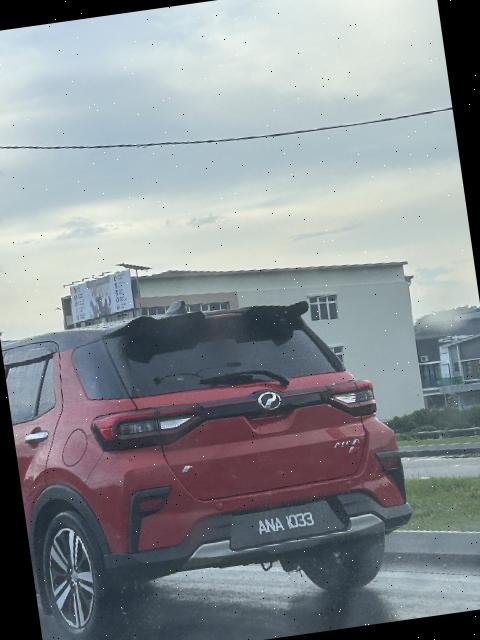License_Plate: (233, 498, 341, 551)
car: (1, 276, 431, 640)
